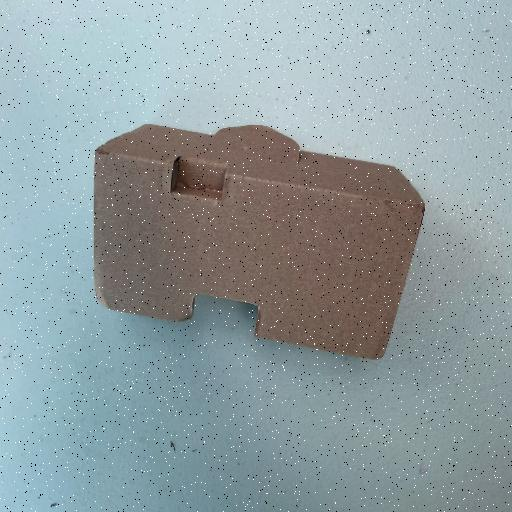Cardboard: (91, 120, 428, 362)
